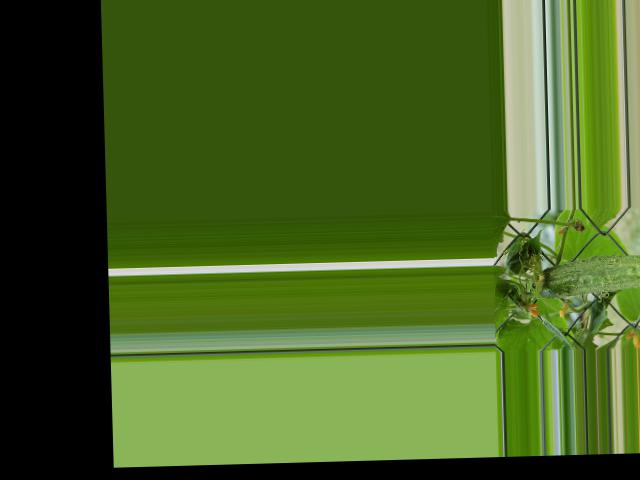cucumber: (532, 254, 640, 297)
